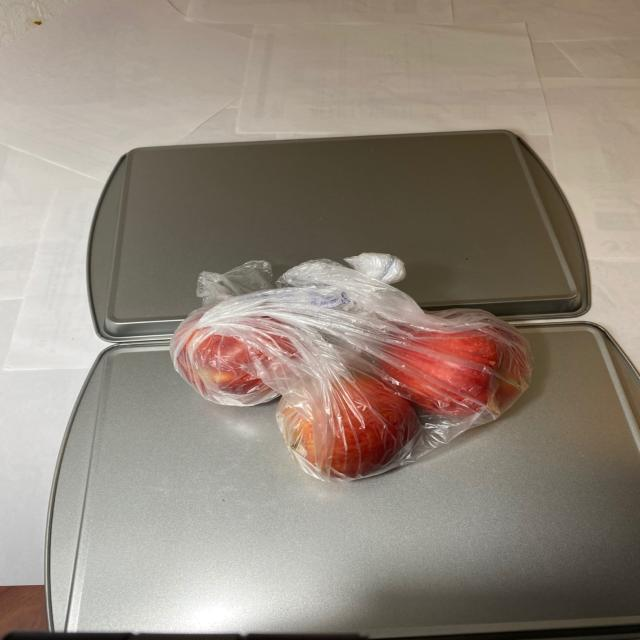apple: (172, 296, 536, 478)
